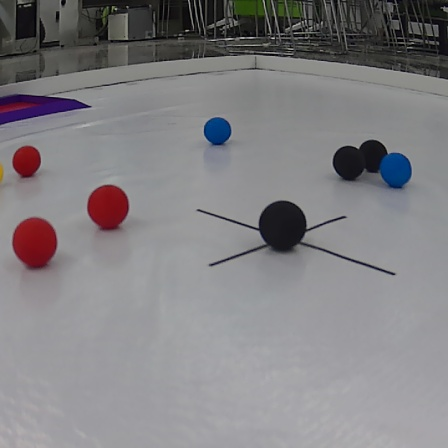black: (260, 201, 306, 255), (331, 148, 364, 181), (359, 137, 386, 170)
blue: (382, 154, 412, 189), (200, 116, 234, 142)
red: (13, 211, 55, 272), (86, 180, 132, 227), (13, 145, 40, 176)
red_aim: (0, 88, 85, 126)
